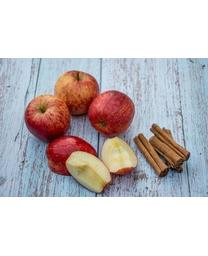apple: (88, 89, 135, 138), (24, 94, 70, 142), (45, 136, 97, 175), (53, 70, 98, 115), (66, 151, 111, 193), (102, 136, 139, 175)
